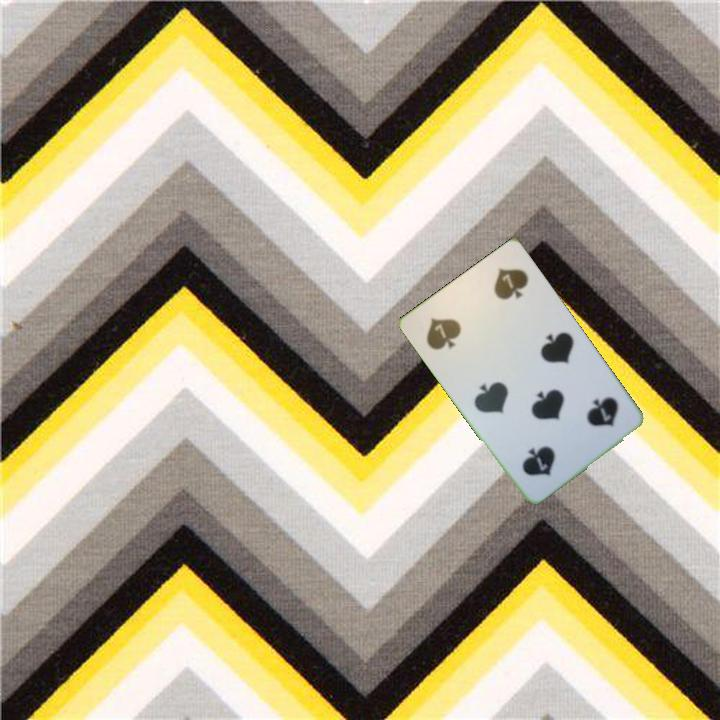s_7.png: (549, 375, 635, 459), (410, 286, 496, 370)
